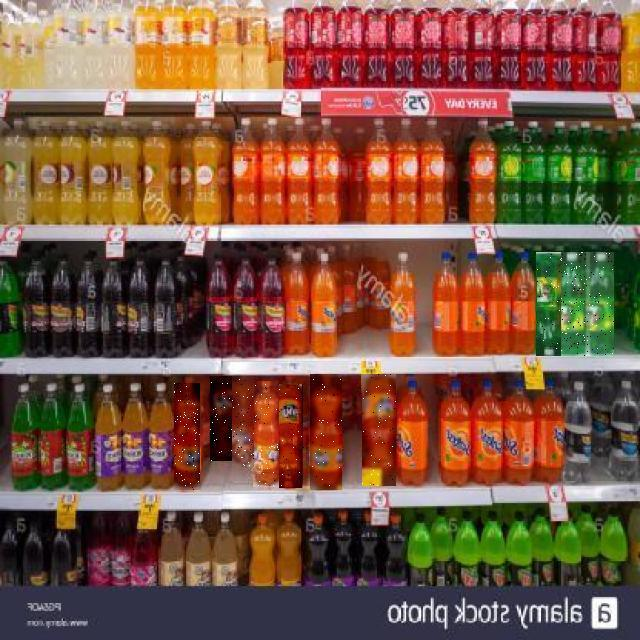Drinks: (362, 374, 396, 486), (310, 375, 342, 491), (562, 252, 590, 356), (253, 382, 279, 490), (175, 384, 201, 492), (536, 252, 562, 356), (589, 252, 615, 356), (280, 384, 306, 488), (232, 376, 254, 467), (210, 376, 232, 461)
